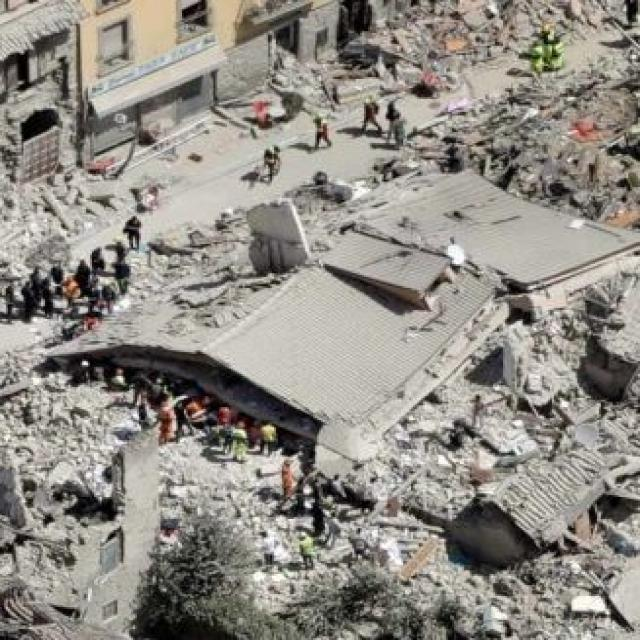collapsed_building: (86, 158, 638, 500)
